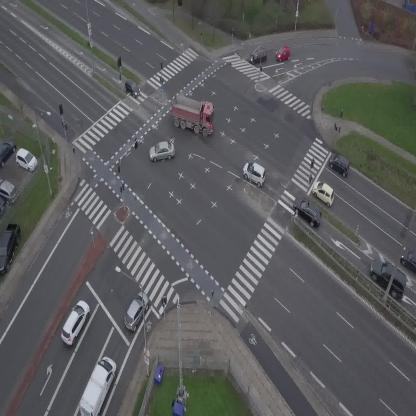car: (362, 252, 416, 302), (57, 297, 95, 347), (288, 192, 328, 232), (118, 289, 154, 332), (308, 177, 340, 208), (239, 158, 271, 188), (326, 151, 354, 178), (148, 140, 176, 162), (121, 78, 143, 99), (400, 248, 416, 273), (247, 48, 269, 64), (273, 46, 292, 62)
lorry: (75, 354, 121, 416), (166, 94, 219, 138)
